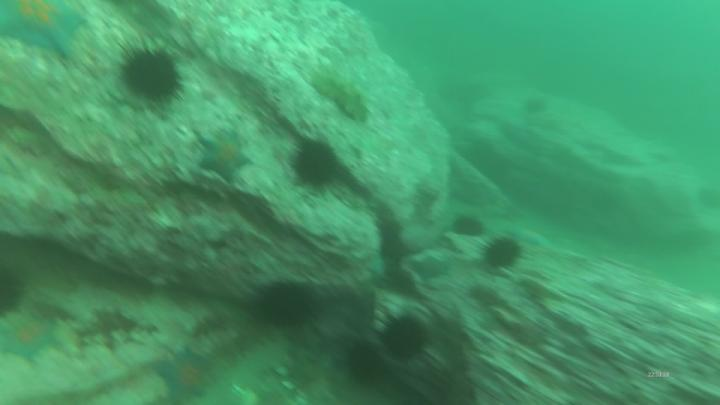echinus: (115, 34, 188, 114), (257, 279, 322, 332), (376, 309, 434, 368), (288, 137, 344, 191), (344, 338, 389, 391), (478, 235, 527, 274), (1, 262, 28, 316), (449, 213, 490, 240), (524, 96, 550, 116)
holothurian: (313, 69, 372, 126)
starfish: (1, 1, 91, 65), (151, 343, 216, 403), (192, 129, 255, 188), (1, 316, 69, 365)
